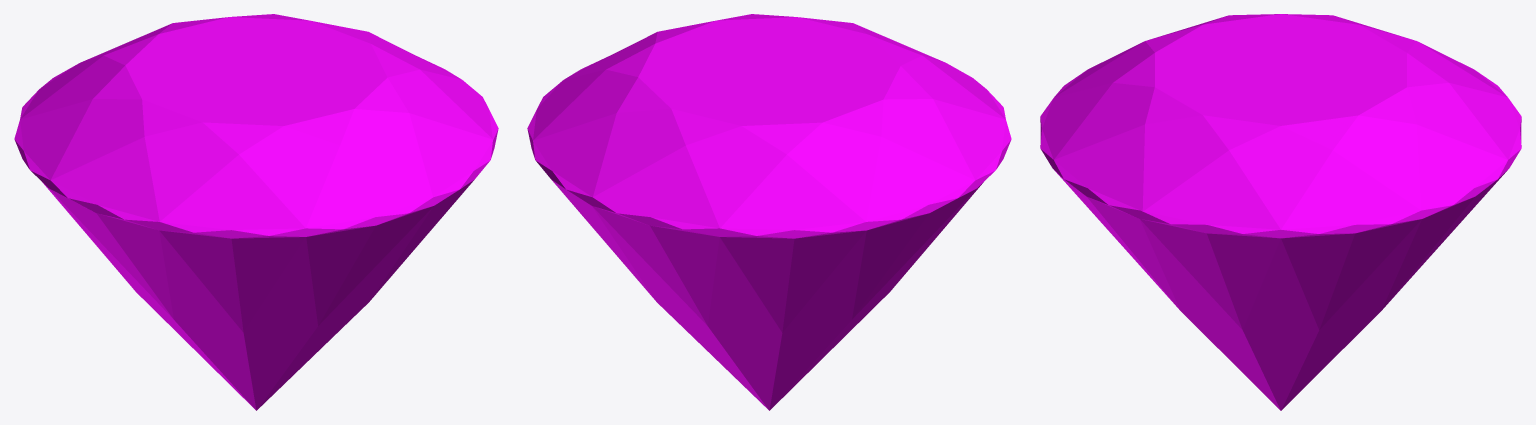
Rendered from MagentaChaosEmerald.obj.
3 renders of one model, left to right at view 1: azimuth 30°, elevation 25°; view 2: azimuth 150°, elevation 25°; view 3: azimuth 270°, elevation 25°, orthographic.
Parts seen in each view (by area): view 1: emerald_1; view 2: emerald_1; view 3: emerald_1.
Boxes of the visible parts, left/top/right/bottom form: emerald_1: left=14, top=14, right=498, bottom=410; emerald_1: left=527, top=14, right=1011, bottom=410; emerald_1: left=1040, top=14, right=1521, bottom=410.
Size of the model in its own units: 0.0262 by 0.0205 by 0.0262.
